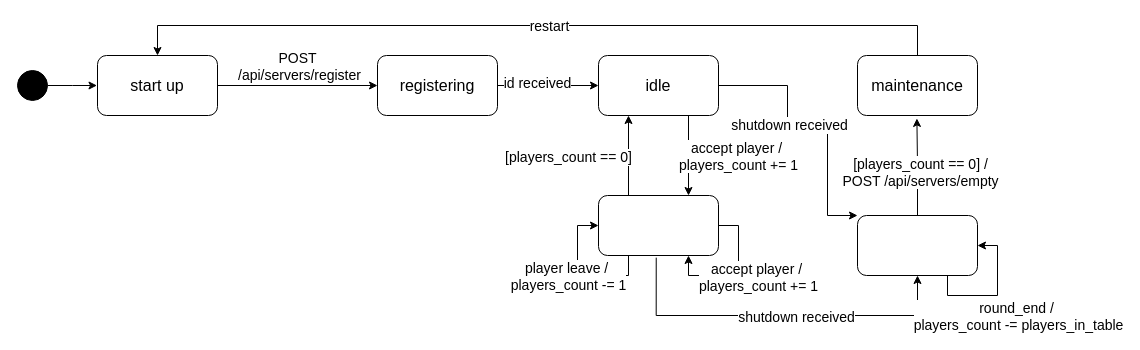
Image size: 1140x350. Some labels were removed from this diagram. Here are the shapes that lost their labels. From the top down, the centre of each, then its label:
At (658,225): "games handling".
At (917,245): "closing".
